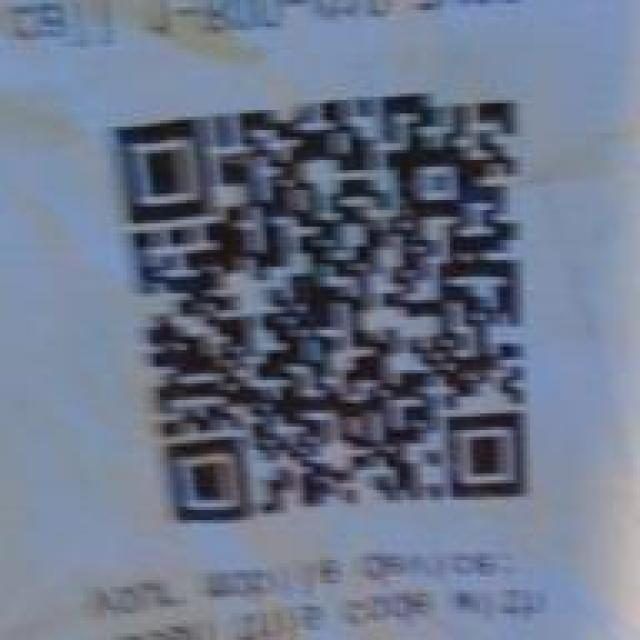QR_CODE: (104, 78, 544, 550)
